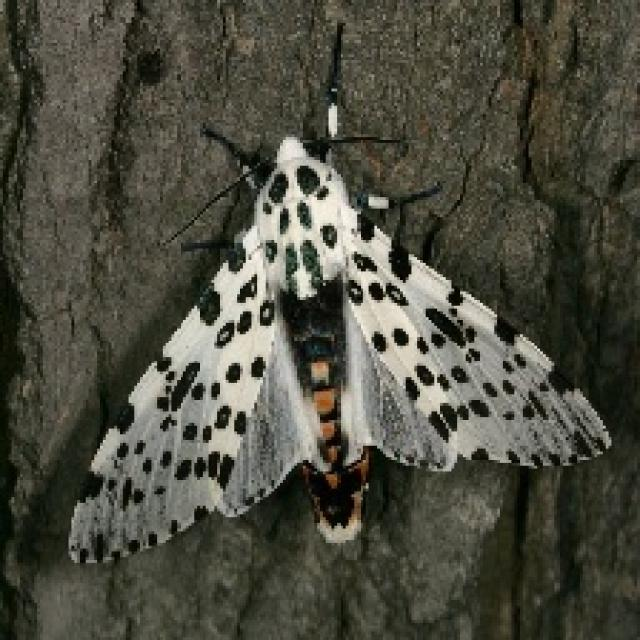butterfly: (63, 20, 611, 566)
